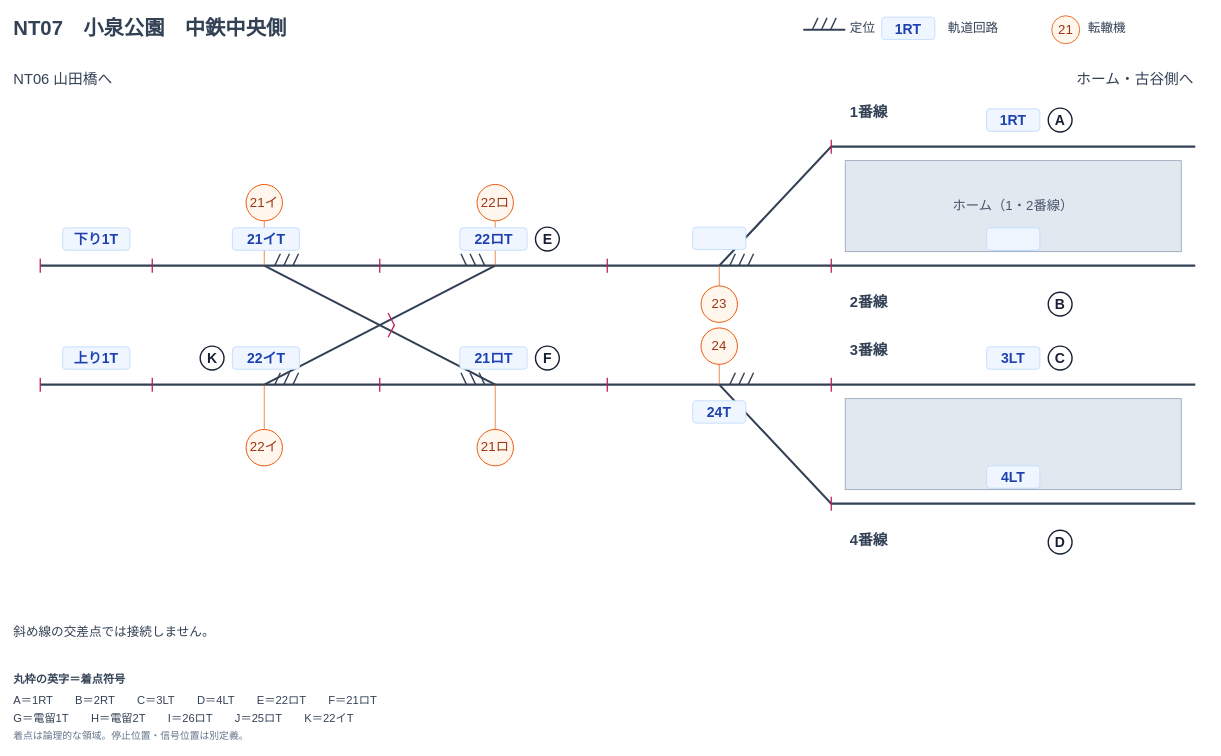
This 1221x756 diagram has some shape labels left out. The box of each missing label's shape, as (x1, y1, x2, y2) in pixels:
23T: (692, 226, 746, 250)
2RT: (986, 227, 1040, 250)
ホーム（3・4番線）: (844, 398, 1181, 490)
